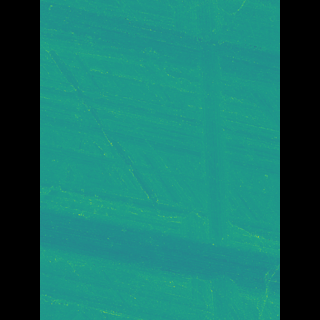Loch: (68, 173, 249, 254), (183, 0, 225, 320)
